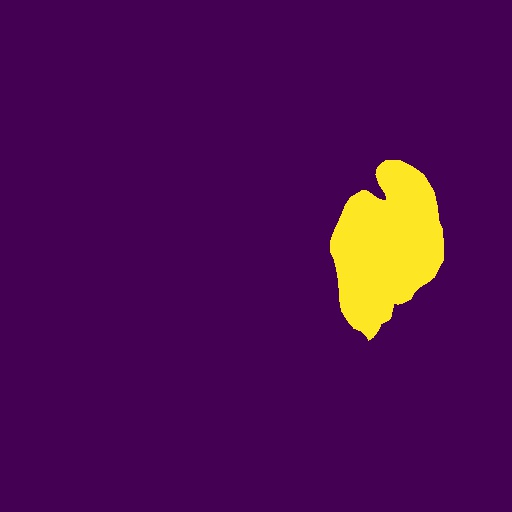Menigiomia_tumour: (330, 160, 444, 341)
